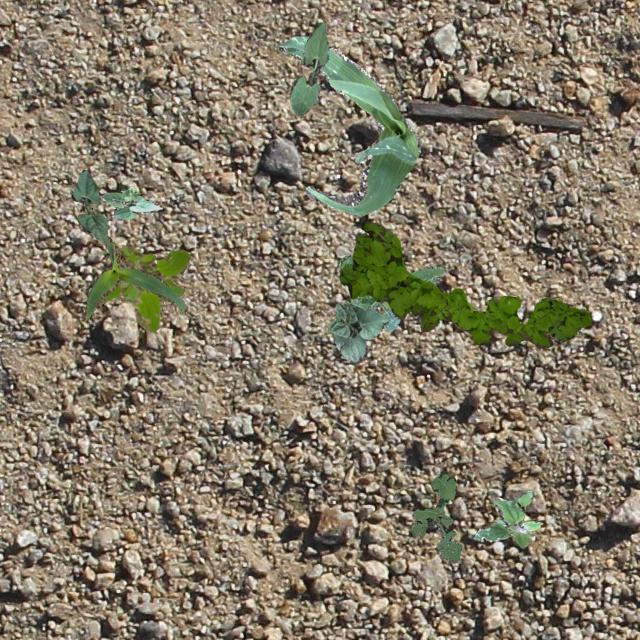crop: (276, 36, 420, 216), (80, 234, 186, 320), (290, 20, 328, 116), (328, 302, 387, 362), (70, 168, 106, 242), (102, 186, 162, 218)
weed: (338, 220, 590, 348), (326, 253, 444, 330), (98, 244, 188, 332), (409, 472, 462, 562), (472, 489, 540, 546)
